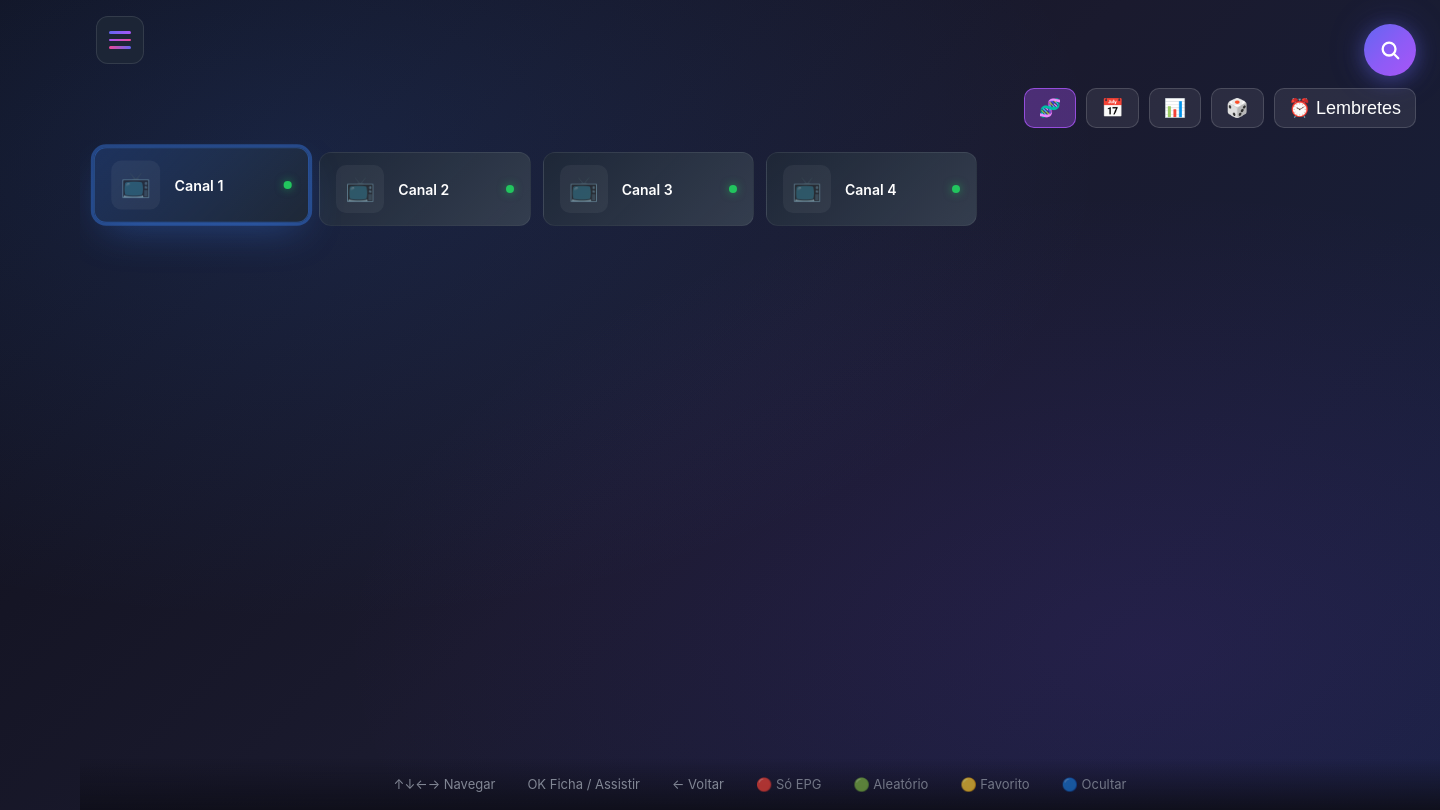
Scenario: TV ao vivo: o selo da ficha e o "Carregando canais" continuam iguais (ordem alfabética) › selo AO VIVO da ficha do canal: preso no canto da prévia, pulsando
The image size is (1440, 810).
Click the element with class "channel-card" showing "📺 Canal 1": coordinates (202, 185) [94,147,310,223]
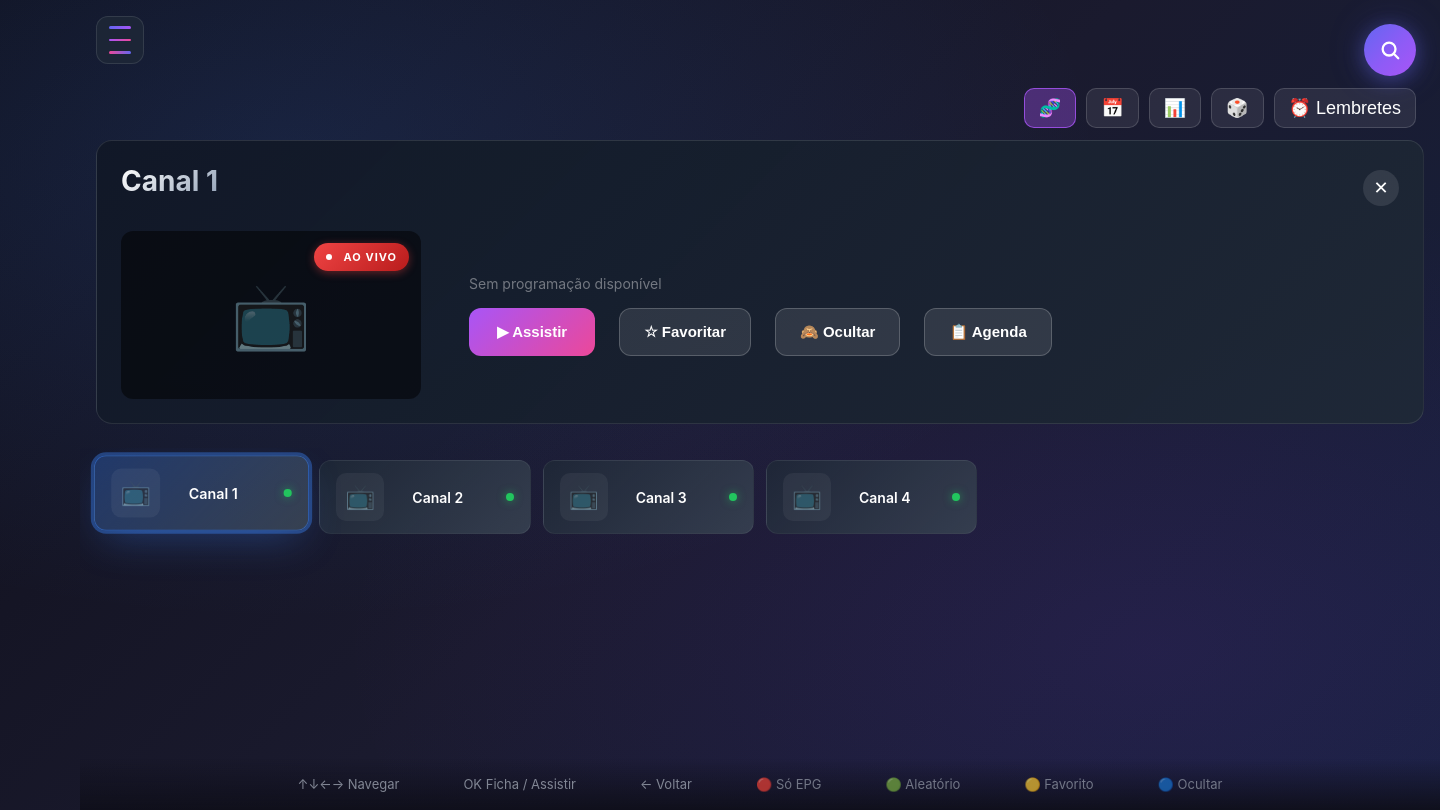
Expected: the element with class "channel-preview" is shown, [96,140,1424,424]
Expected: the number of elements with class "live-badge" is 1, [314,243,409,271]
Expected: the number of elements with class "live-dot" is 1, [326,254,332,260]
